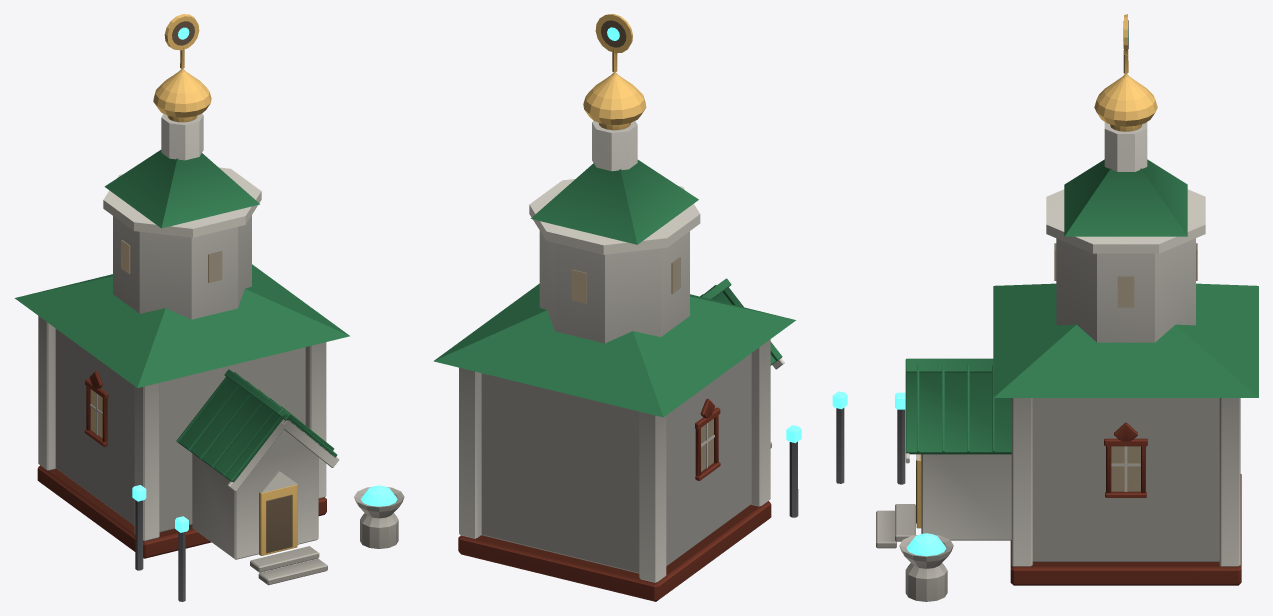
The model's file is bld_church_e2.glb.
3 views of the same model, side by side, from view 1: azimuth 30°, elevation 25°; view 2: azimuth 150°, elevation 25°; view 3: azimuth 270°, elevation 25° (orthographic). The views are drawn at different scales.
Parts seen in each view (by area): view 1: church; view 2: church; view 3: church.
Part boxes in pixels (<box>): church: <box>14,14,404,601</box>; church: <box>433,14,847,601</box>; church: <box>876,14,1258,601</box>.
Size of the model in its own units: 1.4 by 2.74 by 1.82.
